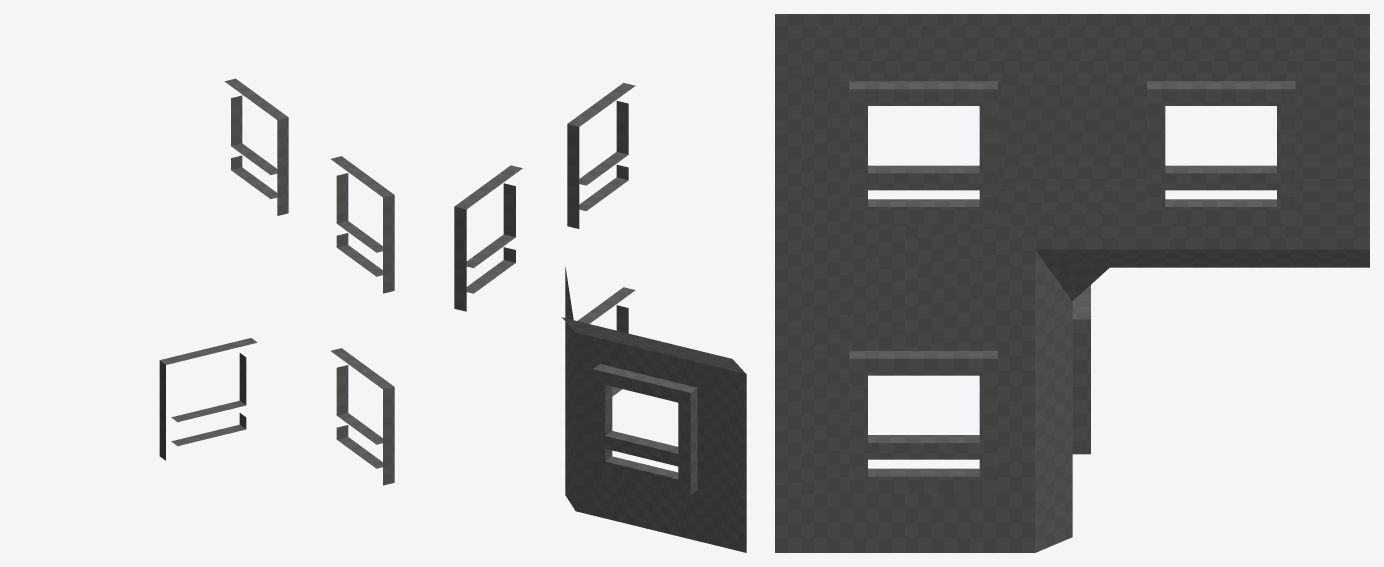
The picture shows the model from 3 angles, left to right: view 1: azimuth 30°, elevation 25°; view 2: azimuth 150°, elevation 25°; view 3: azimuth 270°, elevation 25°; orthographic projection. The views are drawn at different scales.
Visible parts, largest first — view 1: CubeDownBackRight4V4; view 2: CubeDownBackRight4V4; view 3: CubeDownBackRight4V4.
Part boxes in pixels (x1,y1,x2,y2): CubeDownBackRight4V4: (159, 78, 394, 485); CubeDownBackRight4V4: (454, 82, 746, 552); CubeDownBackRight4V4: (775, 14, 1369, 552).
Size of the model in its own units: 2.12 by 4 by 4.
Materials: 1 (1 with a texture image).
